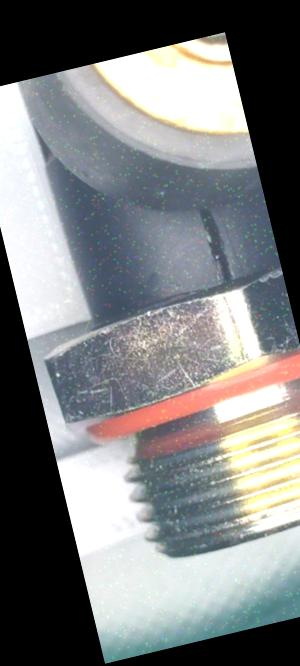craze: (191, 196, 241, 294)
